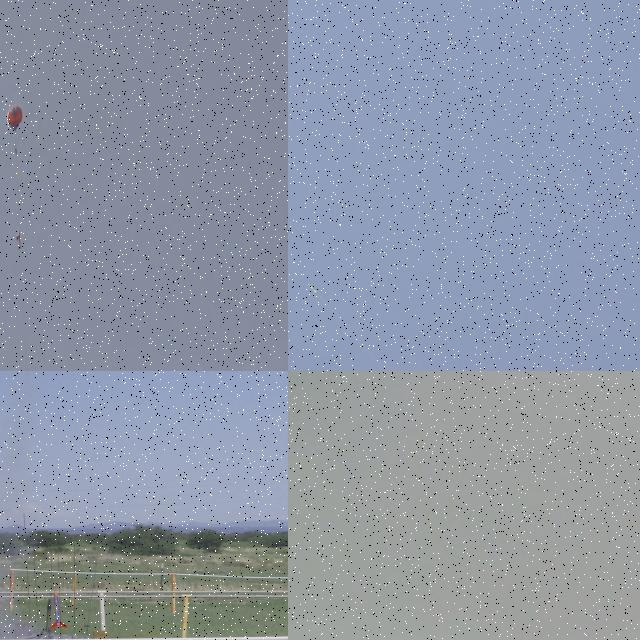Rocket: (50, 588, 68, 630), (41, 599, 55, 634), (307, 284, 318, 293)
